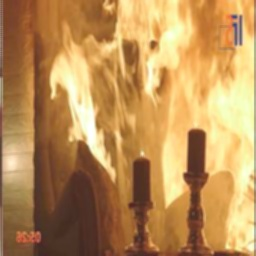fire: (49, 0, 253, 248)
